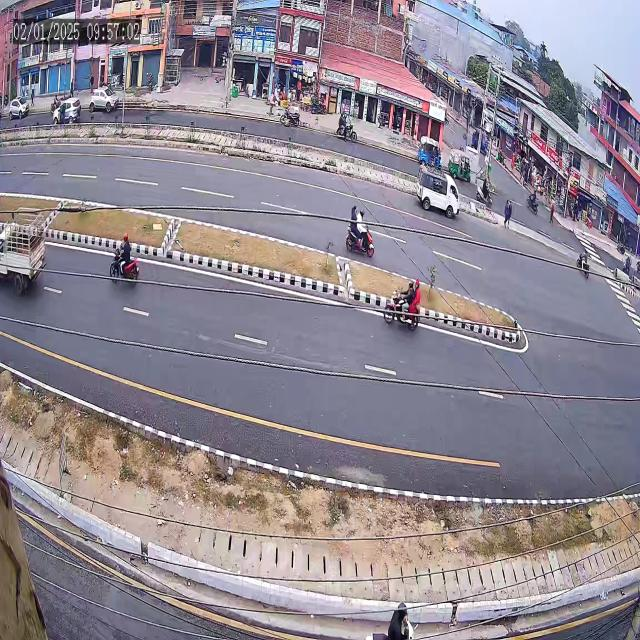motorcycle: (384, 276, 427, 344), (107, 230, 144, 299), (342, 190, 376, 258)
van: (411, 165, 467, 225)
